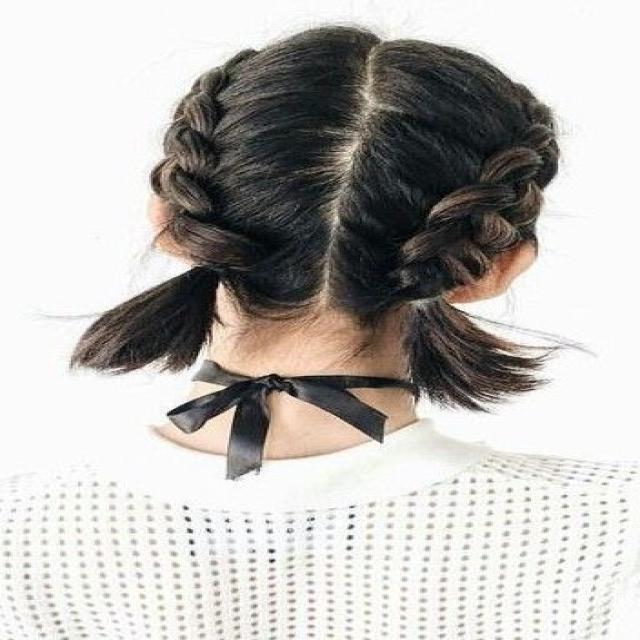Nonhelmet: (129, 9, 585, 330)
